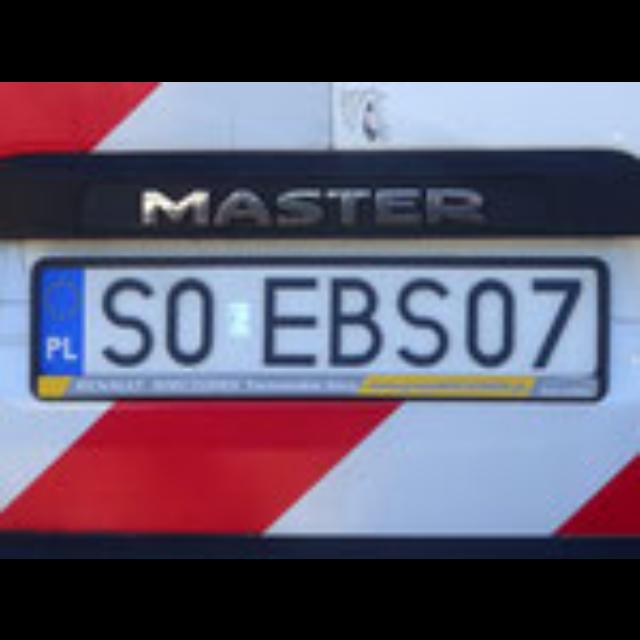pl_license_plate: (31, 256, 602, 372)
